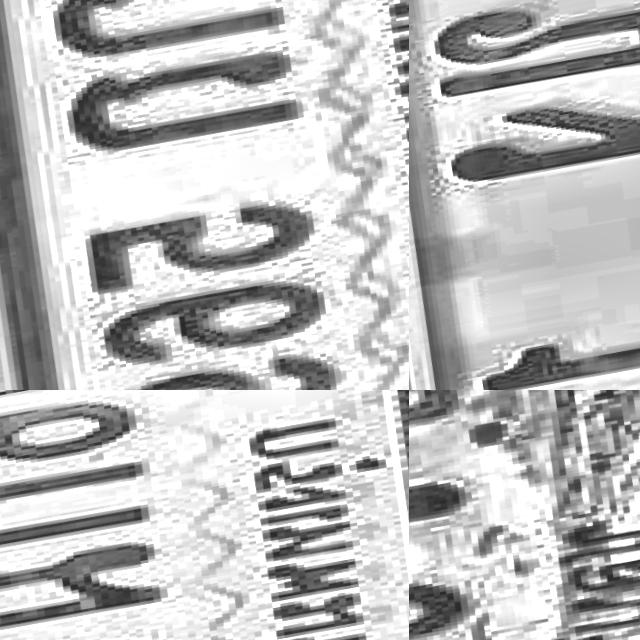license-plate: (0, 0, 409, 390), (0, 390, 409, 640), (409, 0, 640, 390), (409, 390, 640, 640)
